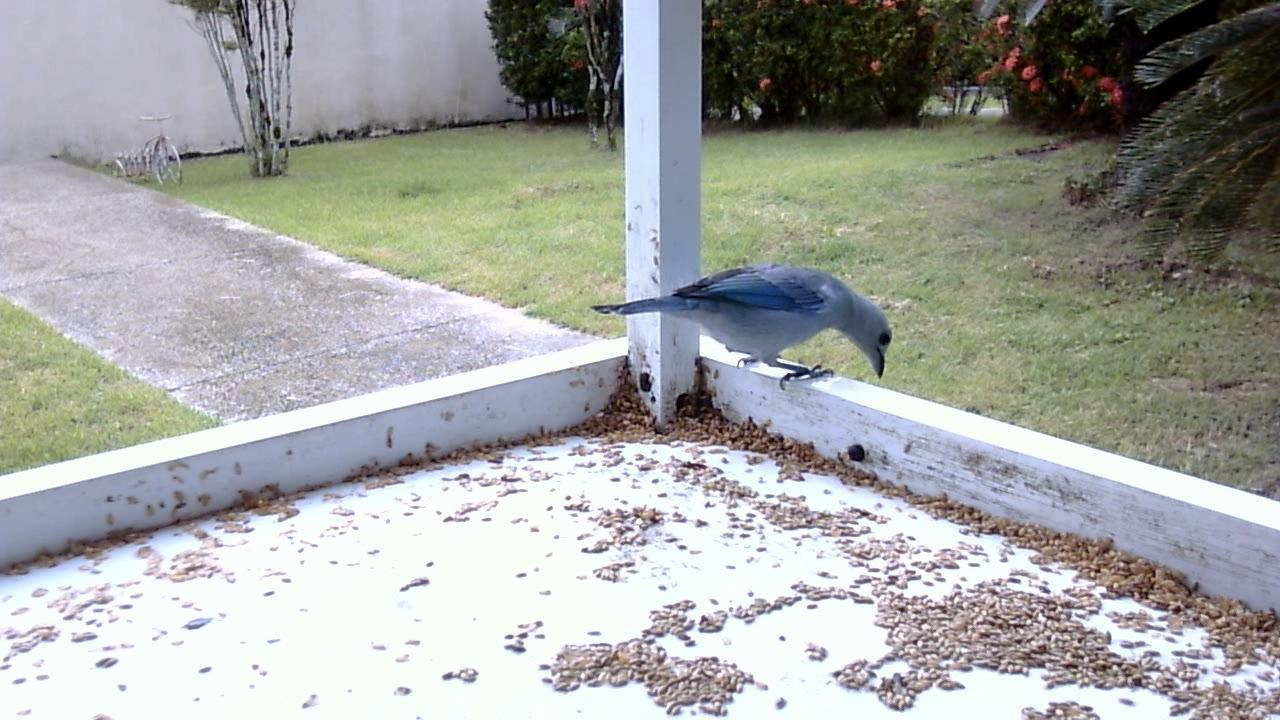sanhaco_da_amazonia: (584, 258, 889, 406)
